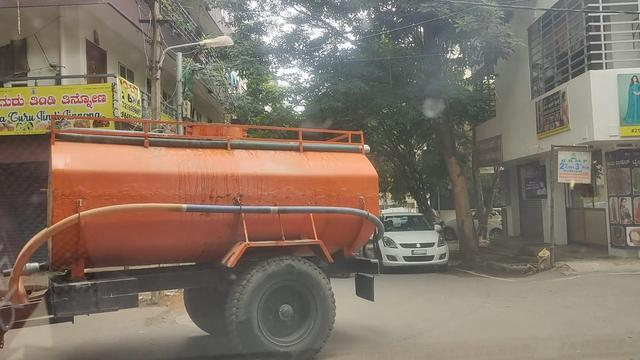HMV: (0, 89, 387, 360)
LMV: (376, 196, 456, 280)
